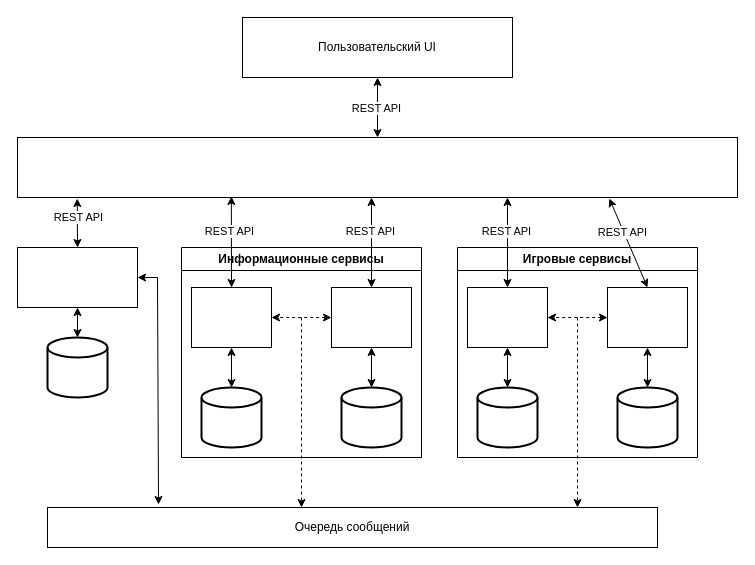
Image size: 755x565. Some labels were removed from this diagram. Here are the shapes that lost their labels. From the top down, the centre of each, then its label:
[377,167]: API Gateway
[77,277]: Сервис авторизации
